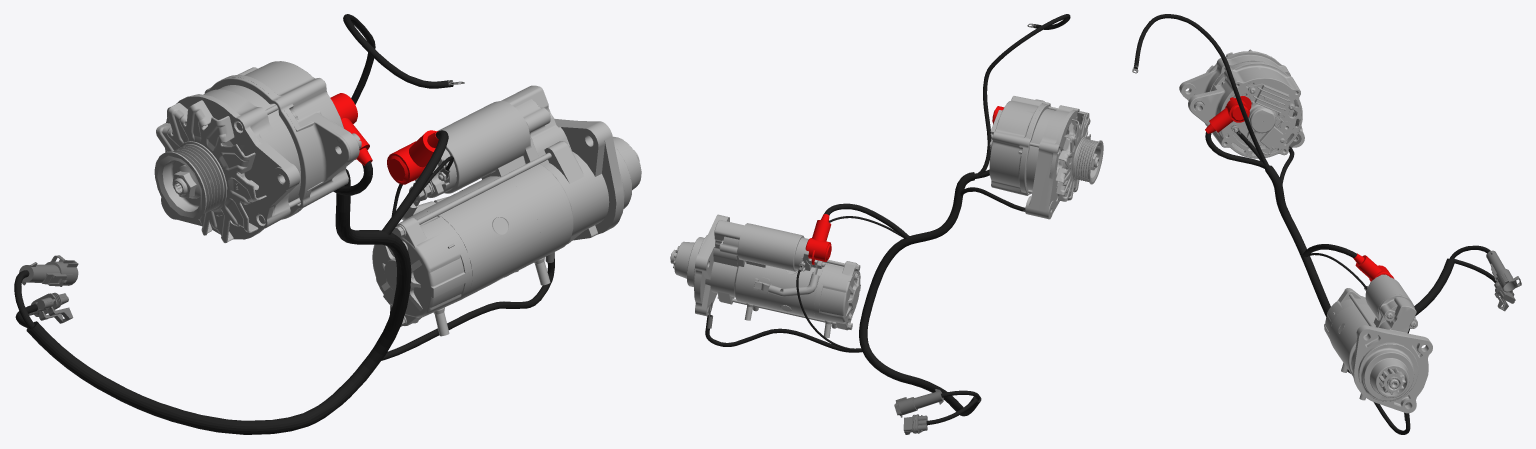
The model's file is harness_connectors_v2.glb.
3 views of the same model, side by side, from view 1: azimuth 30°, elevation 25°; view 2: azimuth 150°, elevation 25°; view 3: azimuth 270°, elevation 25° (orthographic). The views are drawn at different scales.
Visible parts, largest first — view 1: TULKA_PRT.001, T9_STARTER_R_TERM_.001, T9, C111, TULKA_PRT_ii_12888_polys_mat_3__1, T12, C101; view 2: TULKA_PRT.001, T9_STARTER_R_TERM_.001, T9, C111; view 3: TULKA_PRT.001, T9_STARTER_R_TERM_.001, T12, C111, T9.
Boxes of the visible parts, x1,y1,x2,y2 form: TULKA_PRT.001: (19,61,641,326); T9_STARTER_R_TERM_.001: (14,14,554,434); T9: (387,130,438,184); C111: (27,255,78,286); TULKA_PRT_ii_12888_polys_mat_3__1: (417,143,569,224); T12: (330,93,369,159); C101: (31,292,73,323); TULKA_PRT.001: (670,96,1103,430); T9_STARTER_R_TERM_.001: (705,14,1070,425); T9: (805,214,831,264); C111: (894,391,942,417); TULKA_PRT.001: (1179,49,1496,413); T9_STARTER_R_TERM_.001: (1133,14,1496,434); T12: (1209,96,1251,132); C111: (1486,250,1521,292); T9: (1353,253,1394,281).
Bounding box in the file's own units: 0.6068 × 0.5232 × 0.5672.
